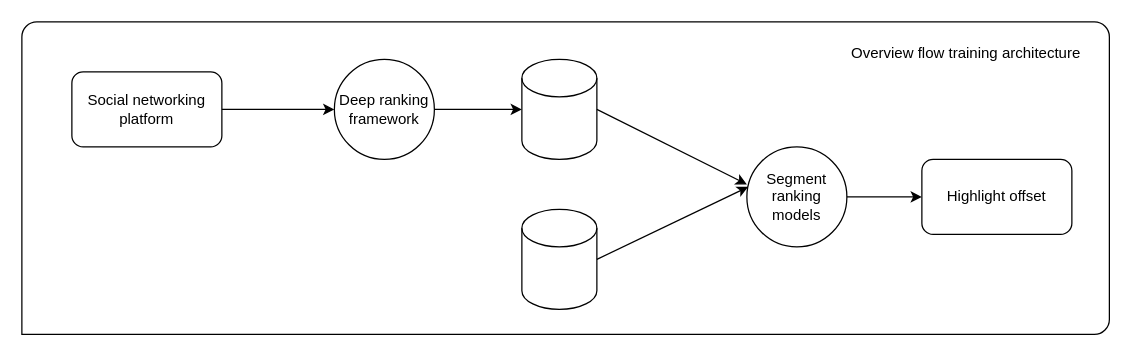
This 1131x356 diagram has some shape labels left out. Each missing label, with the centre of its shape:
"Annotated data" belongs at [559,258].
"Social dataset" belongs at [559,108].
